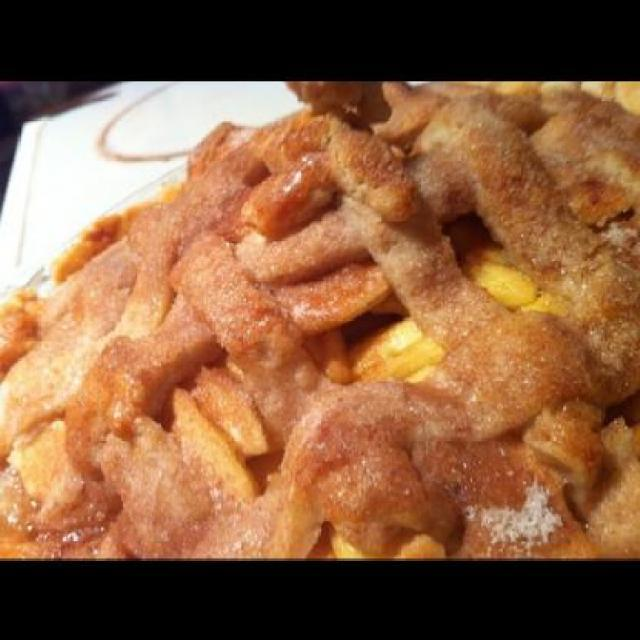Apple: (45, 116, 637, 559)
